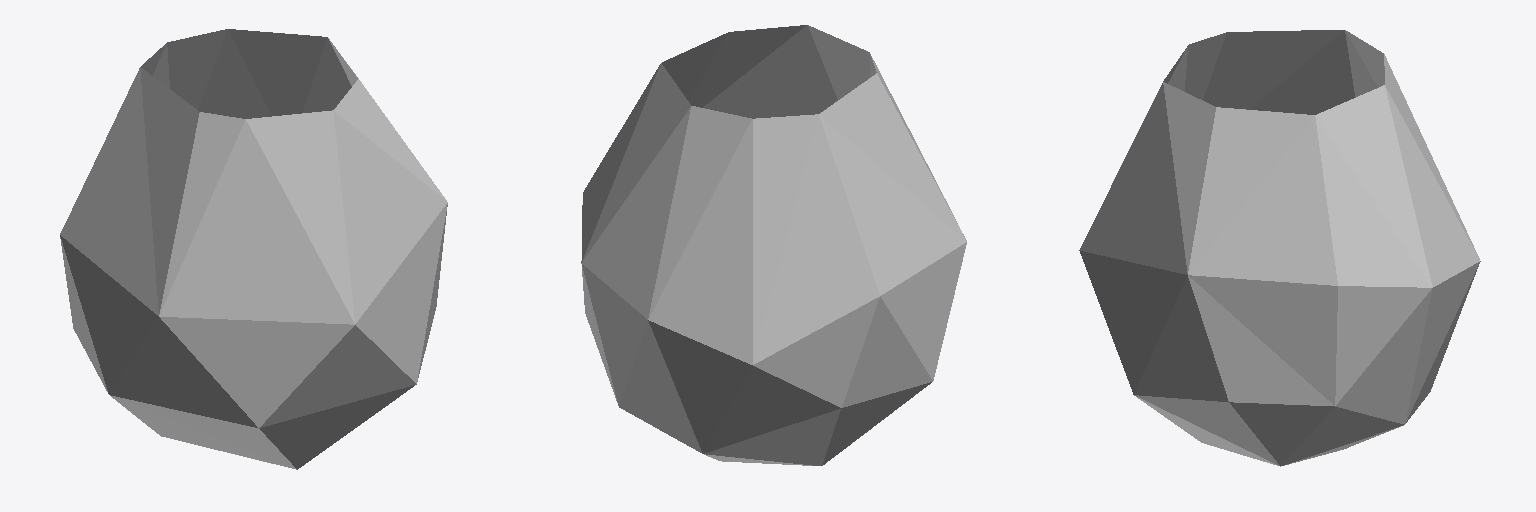
Rendered from Lamp_bulp.obj.
The picture shows the model from 3 angles: view 1: azimuth 30°, elevation 25°; view 2: azimuth 150°, elevation 25°; view 3: azimuth 270°, elevation 25°; orthographic projection.
Visible parts, largest first — view 1: Lamp_Bulp_LOD0_Lamp.001; view 2: Lamp_Bulp_LOD0_Lamp.001; view 3: Lamp_Bulp_LOD0_Lamp.001.
Part boxes in pixels (bbox=[...]): Lamp_Bulp_LOD0_Lamp.001: bbox=[60, 29, 447, 469]; Lamp_Bulp_LOD0_Lamp.001: bbox=[581, 25, 966, 465]; Lamp_Bulp_LOD0_Lamp.001: bbox=[1079, 30, 1480, 466].
Bounding box in the file's own units: 0.0502 × 0.057 × 0.0558.